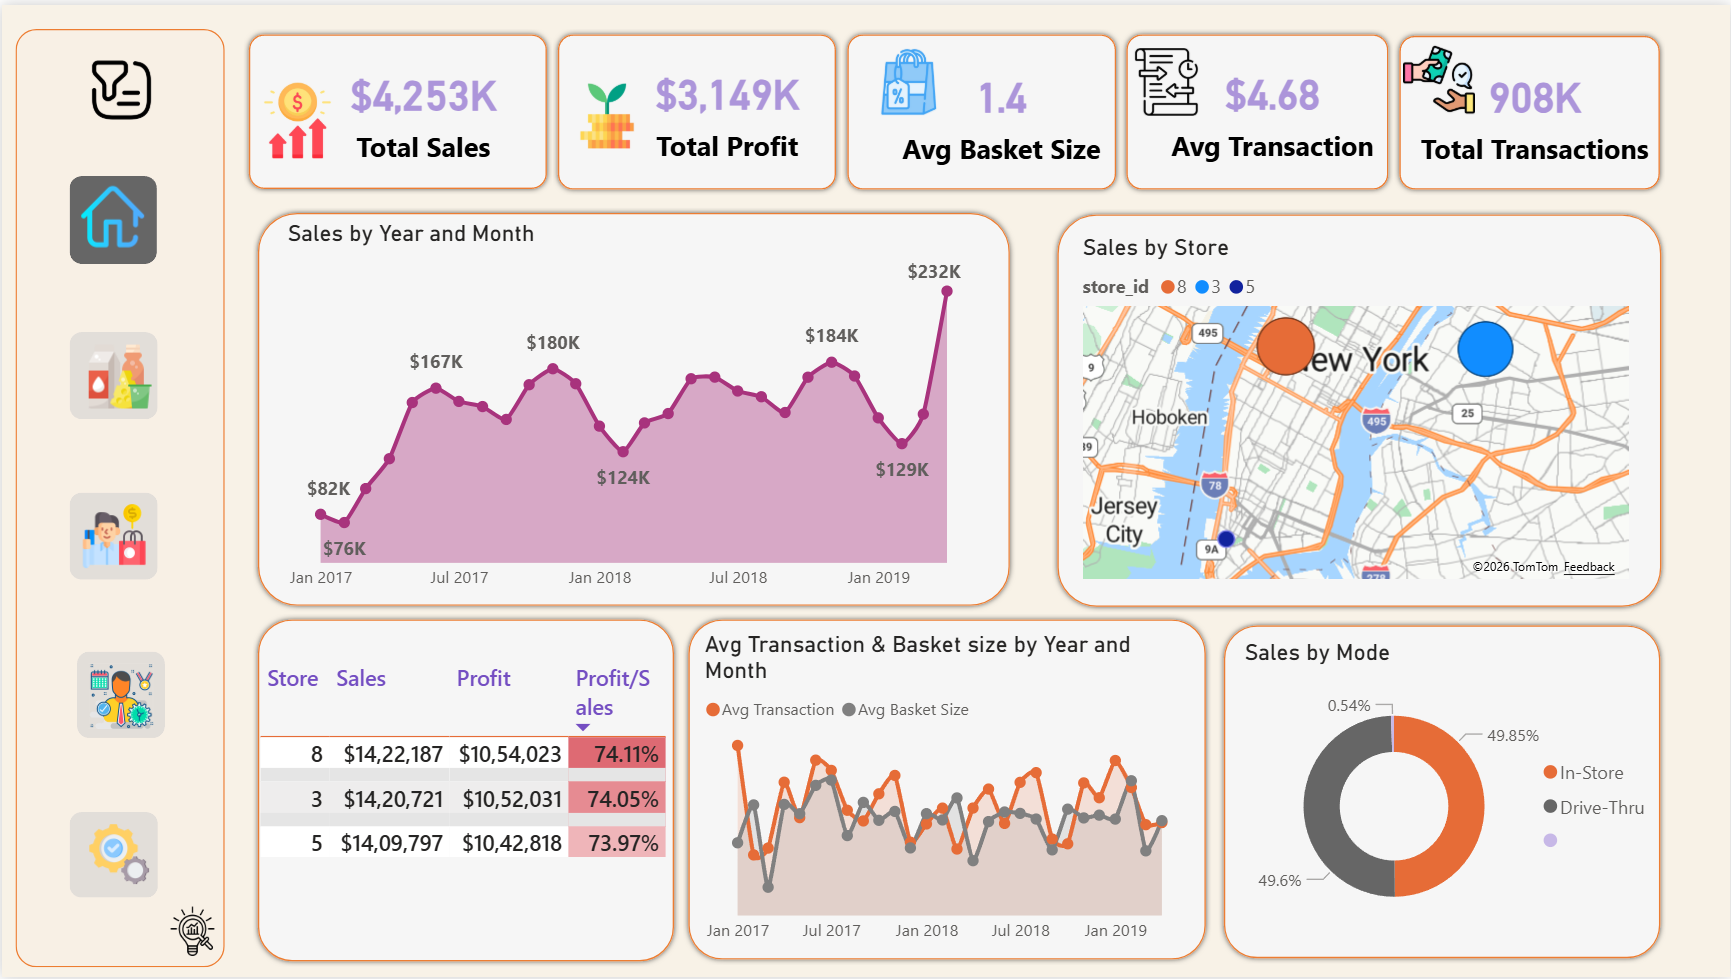

Layout of this report page (visuals, bound fields, positions):
{"tool":"powerbi","page":{"name":"Home","canvas":[1280,720],"ordinal":0},"visuals":[{"type":"shape","title":"Nav BG","box":[10,17.5,155,695],"z":0,"group":"g2"},{"type":"card","fields":{"Values":["DAX.Total Sales"]},"box":[217.8,17.8,188.9,116.7],"z":0,"group":"g1"},{"type":"group","id":"g1","title":"Page1","box":[178.8,17.5,1053.8,694.4],"z":1000},{"type":"shape","box":[178.8,17.5,228.8,122.5],"z":1000,"group":"g1"},{"type":"image","title":"Filter_Img","box":[58.9,33,58.9,59.3],"z":1000,"group":"g2"},{"type":"group","id":"g2","title":"Nav","box":[10,17.5,155,695],"z":2000},{"type":"shape","box":[408,18,214,123],"z":2000,"group":"g1"},{"type":"shape","title":"operation_bg","box":[49.9,597,65.6,63.5],"z":2000,"group":"g2"},{"type":"shape","box":[622,18,207,123],"z":3000,"group":"g1"},{"type":"shape","title":"Emp_bg","box":[55.9,478.8,65.1,64.2],"z":3000,"group":"g2"},{"type":"tableEx","fields":{"Values":["Sales_by_Store.store_id","DAX.Total Sales","DAX.Total Profit","DAX.Profit/Sales"]},"box":[185.1,481.6,316.5,192.4],"z":3000},{"type":"shape","box":[829,18,202,123],"z":4000,"group":"g1"},{"type":"shape","title":"Customer_bg","box":[49.9,360.4,65.4,64.7],"z":4000,"group":"g2"},{"type":"lineChart","title":"Avg Transaction & Basket size by Year and Month","fields":{"Category":["Calendar.Transaction_Date.Variation.Date Hierarchy.Year","Calendar.Transaction_Date.Variation.Date Hierarchy.Month"],"Y":["DAX.Avg Transaction"],"Y2":["DAX.Avg Basket Size"]},"box":[515.3,463.8,372.3,239.8],"z":4000},{"type":"shape","box":[1031,18.2,200.9,121.8],"z":5000,"group":"g1"},{"type":"shape","title":"Home_bg","box":[49.9,126,64.8,65.2],"z":5000,"group":"g2"},{"type":"image","box":[117.5,661.2,46.2,50],"z":5000},{"type":"card","fields":{"Values":["DAX.Total Sales"]},"box":[218,21,188,114],"z":6000,"group":"g1"},{"type":"shape","title":"Product_bg","box":[49.9,242.3,65.4,64.7],"z":6000,"group":"g2"},{"type":"card","fields":{"Values":["DAX.Total Profit"]},"box":[459,21,156,113],"z":7000,"group":"g1"},{"type":"image","title":"Operation_img","box":[57.9,600.1,57.6,58],"z":7000,"group":"g2"},{"type":"card","fields":{"Values":["DAX.Average Basket Size"]},"box":[660,24,160,111],"z":8000,"group":"g1"},{"type":"image","title":"Customer_img","box":[54.1,364,57.3,57.7],"z":8000,"group":"g2"},{"type":"card","fields":{"Values":["DAX.Average Transaction Value"]},"box":[853,21,175,113],"z":9000,"group":"g1"},{"type":"image","title":"Product_img","box":[58.6,245.4,57.3,58.9],"z":9000,"group":"g2"},{"type":"card","fields":{"Values":["DAX.Total Number of Transactions"]},"box":[1037.3,23.6,194.5,110.9],"z":10000,"group":"g1"},{"type":"image","title":"Emp_img","box":[58.6,481.4,58.6,58.9],"z":10000,"group":"g2"},{"type":"image","box":[185,52,66,67],"z":11000,"group":"g1"},{"type":"image","title":"Home_img","box":[53.6,128,57.3,57.7],"z":11000,"group":"g2"},{"type":"image","box":[419,52,58,60],"z":12000,"group":"g1"},{"type":"actionButton","title":"Home_Btn","box":[49.9,125.9,64.8,65.2],"z":12000,"group":"g2"},{"type":"actionButton","title":"Filter_btn","box":[58.9,32.4,58.8,59.2],"z":12500,"group":"g2"},{"type":"image","box":[640,26,63,60],"z":13000,"group":"g1"},{"type":"actionButton","title":"Product_Btn","box":[49.9,242.1,64.8,65.2],"z":13000,"group":"g2"},{"type":"image","box":[1031,22.7,66.4,63.6],"z":14000,"group":"g1"},{"type":"actionButton","title":"Emp_Btn","box":[55.9,478.8,64.8,65.2],"z":14000,"group":"g2"},{"type":"image","box":[829.1,26.4,67.3,60],"z":15000,"group":"g1"},{"type":"actionButton","title":"Customer_Btn","box":[49.9,360.4,64.8,65.2],"z":15000,"group":"g2"},{"type":"shape","box":[777.2,150.4,455.4,298.7],"z":16000,"group":"g1"},{"type":"actionButton","title":"Operation_Btn","box":[49.9,596.2,64.8,65.2],"z":16000,"group":"g2"},{"type":"shape","box":[185,150,565,299],"z":17000,"group":"g1"},{"type":"lineChart","title":"Sales by Year and Month","fields":{"Y":["DAX.Total Sales"],"Category":["Calendar.Transaction_Date.Variation.Date Hierarchy.Year","Calendar.Transaction_Date.Variation.Date Hierarchy.Month"]},"box":[207,159,522,283],"z":18000,"group":"g1"},{"type":"azureMap","title":"Sales by Store","fields":{"Y":["Store Lookup.store_latitude"],"X":["Store Lookup.store_longitude"],"Size":["DAX.Total Sales"],"Series":["Store Lookup.store_id"]},"box":[795,169,414,262],"z":19000,"group":"g1"},{"type":"shape","box":[185.4,450.6,316.2,261.2],"z":20000,"group":"g1"},{"type":"shape","box":[504.1,450.6,391.2,260],"z":21000,"group":"g1"},{"type":"shape","box":[901.3,455.4,331.3,254.5],"z":22000,"group":"g1"},{"type":"donutChart","title":"Sales by Mode ","fields":{"Y":["DAX.Total Sales"],"Category":["Sales_by_Store.instore_yn"]},"box":[916,469,315.5,229.3],"z":25000,"group":"g1"}]}

Visuals, with their boxes in screenshot pixels (x1, y1, x2, y2), scaled from the page's 1280x720 canvas onto the 1731x979 screenshot:
"Nav BG" shape: left=14, top=24, right=223, bottom=969
card - DAX.Total Sales: left=295, top=24, right=550, bottom=183
"Page1" group: left=242, top=24, right=1667, bottom=968
shape: left=242, top=24, right=551, bottom=190
"Filter_Img" image: left=80, top=45, right=159, bottom=126
"Nav" group: left=14, top=24, right=223, bottom=969
shape: left=552, top=24, right=841, bottom=192
"operation_bg" shape: left=67, top=812, right=156, bottom=898
shape: left=841, top=24, right=1121, bottom=192
"Emp_bg" shape: left=76, top=651, right=164, bottom=738
tableEx - Sales_by_Store.store_id x DAX.Total Sales: left=250, top=655, right=678, bottom=916
shape: left=1121, top=24, right=1394, bottom=192
"Customer_bg" shape: left=67, top=490, right=156, bottom=578
"Avg Transaction & Basket size by Year and Month" lineChart: left=697, top=631, right=1200, bottom=957
shape: left=1394, top=25, right=1666, bottom=190
"Home_bg" shape: left=67, top=171, right=155, bottom=260
image: left=159, top=899, right=221, bottom=967
card - DAX.Total Sales: left=295, top=29, right=549, bottom=184
"Product_bg" shape: left=67, top=329, right=156, bottom=417
card - DAX.Total Profit: left=621, top=29, right=832, bottom=182
"Operation_img" image: left=78, top=816, right=156, bottom=895
card - DAX.Average Basket Size: left=893, top=33, right=1109, bottom=184
"Customer_img" image: left=73, top=495, right=151, bottom=573
card - DAX.Average Transaction Value: left=1154, top=29, right=1390, bottom=182
"Product_img" image: left=79, top=334, right=157, bottom=414
card - DAX.Total Number of Transactions: left=1403, top=32, right=1666, bottom=183
"Emp_img" image: left=79, top=655, right=158, bottom=735
image: left=250, top=71, right=339, bottom=162
"Home_img" image: left=72, top=174, right=150, bottom=253
image: left=567, top=71, right=645, bottom=152
"Home_Btn" actionButton: left=67, top=171, right=155, bottom=260
"Filter_btn" actionButton: left=80, top=44, right=159, bottom=125
image: left=866, top=35, right=951, bottom=117
"Product_Btn" actionButton: left=67, top=329, right=155, bottom=418
image: left=1394, top=31, right=1484, bottom=117
"Emp_Btn" actionButton: left=76, top=651, right=163, bottom=740
image: left=1121, top=36, right=1212, bottom=117
"Customer_Btn" actionButton: left=67, top=490, right=155, bottom=579
shape: left=1051, top=205, right=1667, bottom=611
"Operation_Btn" actionButton: left=67, top=811, right=155, bottom=899
shape: left=250, top=204, right=1014, bottom=611
"Sales by Year and Month" lineChart: left=280, top=216, right=986, bottom=601
"Sales by Store" azureMap: left=1075, top=230, right=1635, bottom=586
shape: left=251, top=613, right=678, bottom=968
shape: left=682, top=613, right=1211, bottom=966
shape: left=1219, top=619, right=1667, bottom=965
"Sales by Mode " donutChart: left=1239, top=638, right=1665, bottom=949
